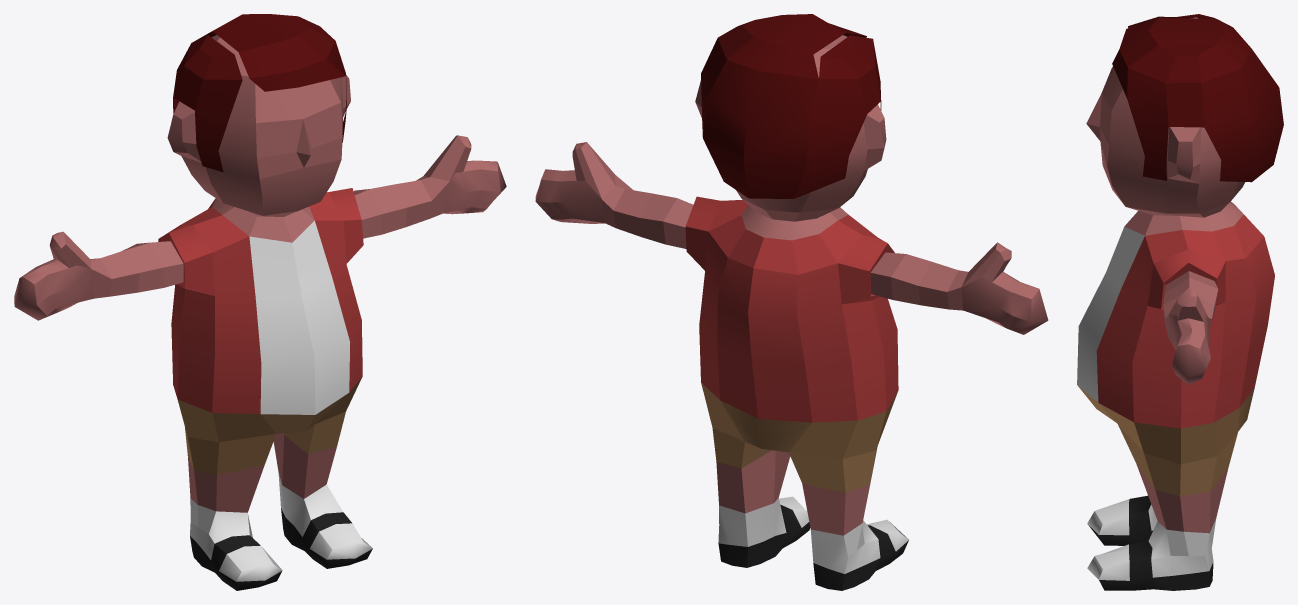
File: Dad.fbx
3 views of the same model, side by side, from view 1: azimuth 30°, elevation 25°; view 2: azimuth 150°, elevation 25°; view 3: azimuth 270°, elevation 25° (orthographic). The views are drawn at different scales.
Visible parts, largest first — view 1: Dad_Bod, Dad_Hair; view 2: Dad_Bod, Dad_Hair; view 3: Dad_Bod, Dad_Hair.
Boxes of the visible parts, x1,y1,x2,y2 form: Dad_Bod: (14, 35, 506, 590); Dad_Hair: (173, 14, 346, 172); Dad_Bod: (535, 35, 1048, 590); Dad_Hair: (701, 14, 881, 198); Dad_Bod: (1077, 17, 1274, 590); Dad_Hair: (1112, 14, 1283, 182).
Bounding box in the file's own units: 3.9 × 3.92 × 1.39.
